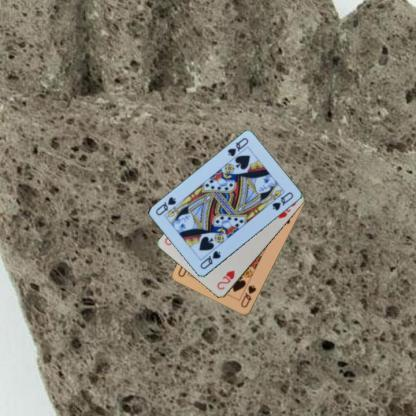2h: (214, 268, 235, 291)
Qs: (238, 282, 258, 310), (197, 248, 222, 270), (224, 136, 249, 158)
